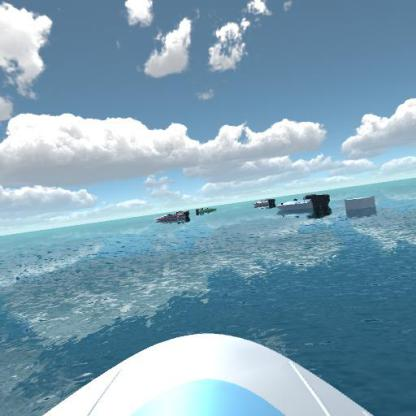usv0: (196, 203, 218, 217)
usv1: (277, 191, 334, 221)
usv3: (152, 206, 190, 224), (251, 194, 276, 210)
